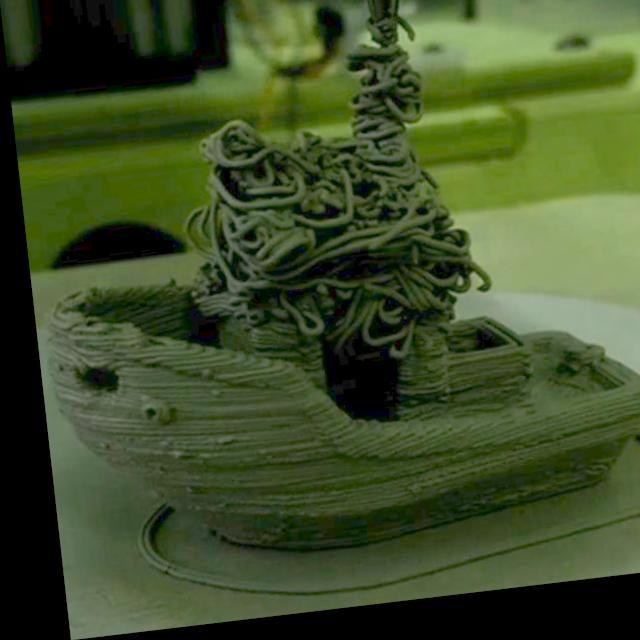spaghetti: (149, 0, 502, 397)
